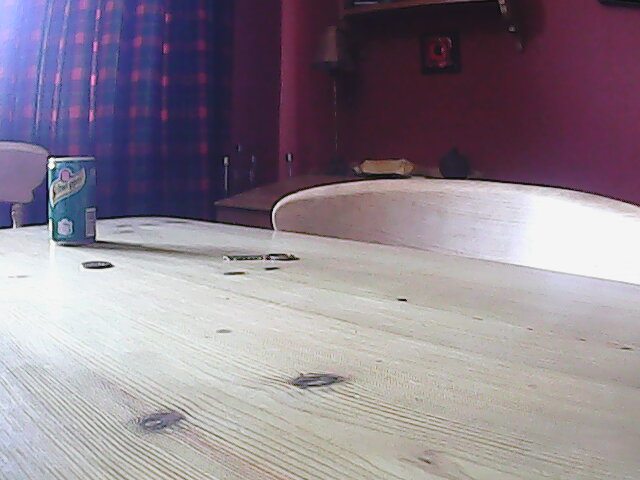Can: (40, 153, 101, 246)
Coin: (80, 256, 114, 273)
Key: (221, 248, 293, 266)
